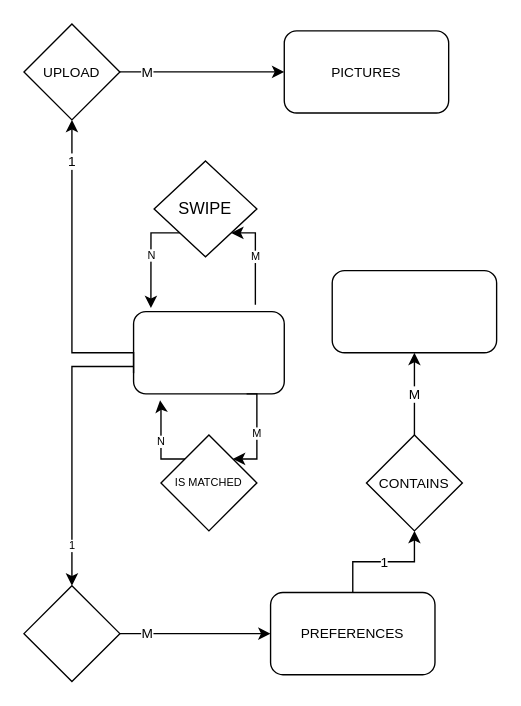
This 521x706 diagram has some shape labels left out. Here are the shapes that lost their labels. From the top down, the centre of each, then its label:
At (414,311): "INTERESTS AND PRIORITIES".
At (208,352): "USER".
At (71,633): "SPECIFY".
